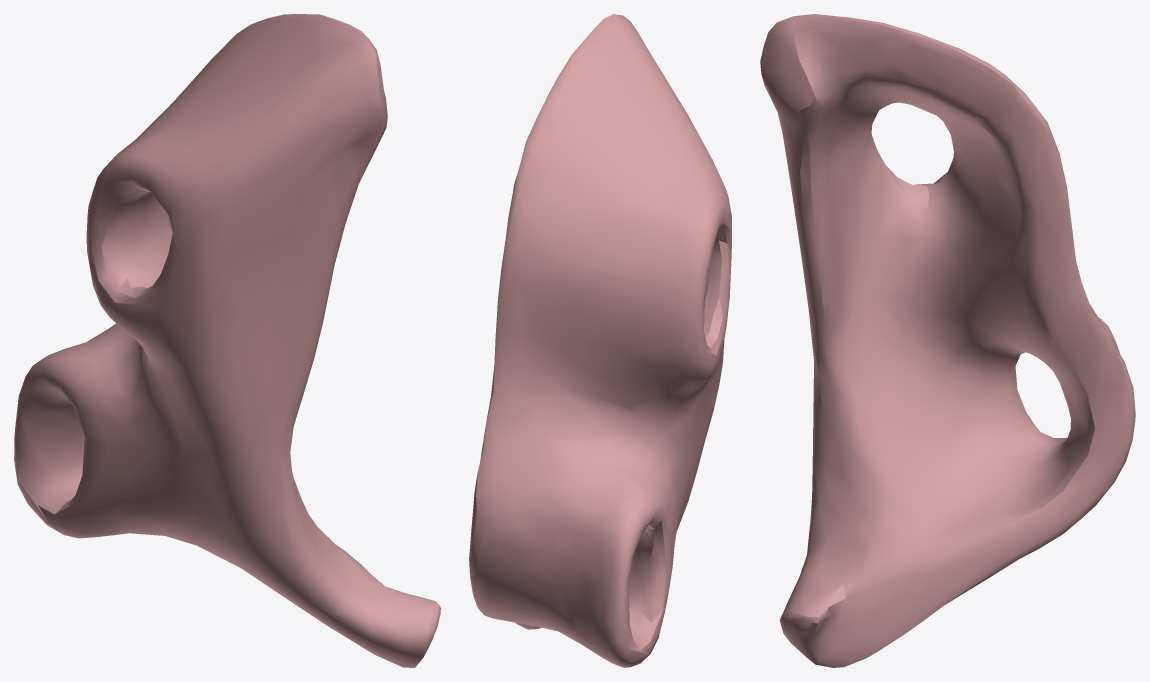
Rendered from fma84095_mm458.glb.
3 views of the same model, side by side, from view 1: azimuth 30°, elevation 25°; view 2: azimuth 150°, elevation 25°; view 3: azimuth 270°, elevation 25° (orthographic). The views are drawn at different scales.
Parts seen in each view (by area): view 1: FMA84095_MM458; view 2: FMA84095_MM458; view 3: FMA84095_MM458.
Part boxes in pixels (x1,y1,x2,y2): FMA84095_MM458: (14, 14, 440, 667); FMA84095_MM458: (469, 14, 731, 667); FMA84095_MM458: (760, 14, 1135, 667).
Size of the model in its own units: 0.021 by 0.049 by 0.0266.
